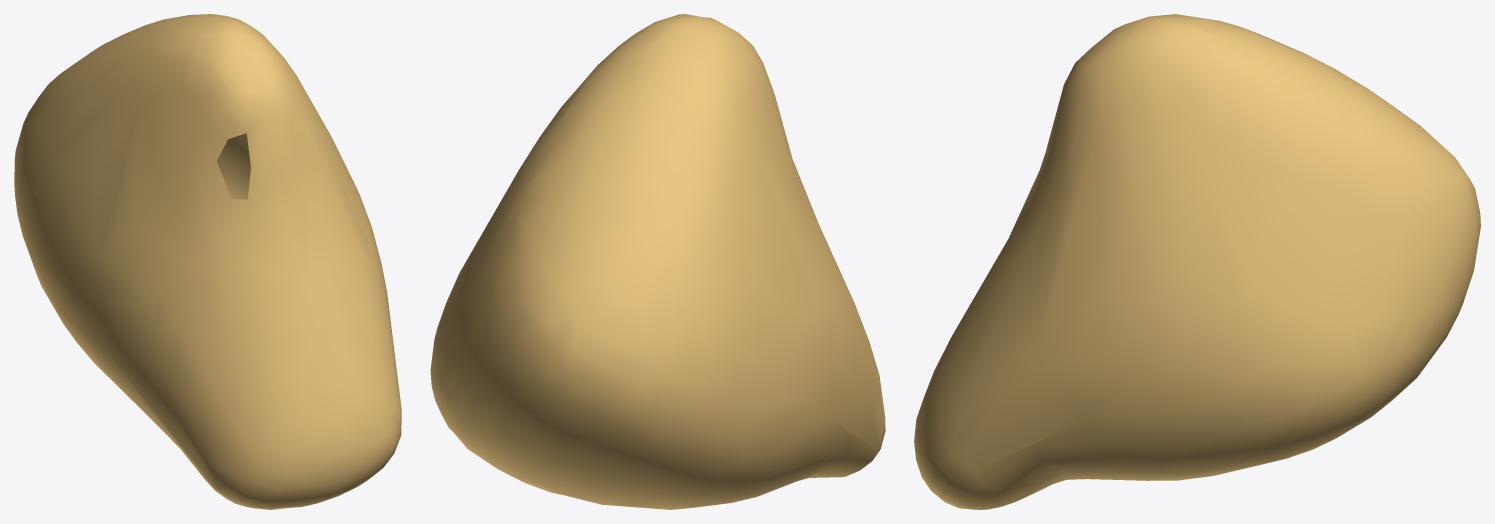
File: nervoso-declive.glb
3 views of the same model, side by side, from view 1: azimuth 30°, elevation 25°; view 2: azimuth 150°, elevation 25°; view 3: azimuth 270°, elevation 25° (orthographic). The views are drawn at different scales.
Visible parts, largest first — view 1: Declive; view 2: Declive; view 3: Declive.
Boxes of the visible parts, box(x1,y1,x2,y2) form: Declive: box(14, 14, 401, 509); Declive: box(430, 14, 885, 509); Declive: box(914, 14, 1480, 509).
Bounding box in the file's own units: 0.0121 × 0.0176 × 0.0191.
